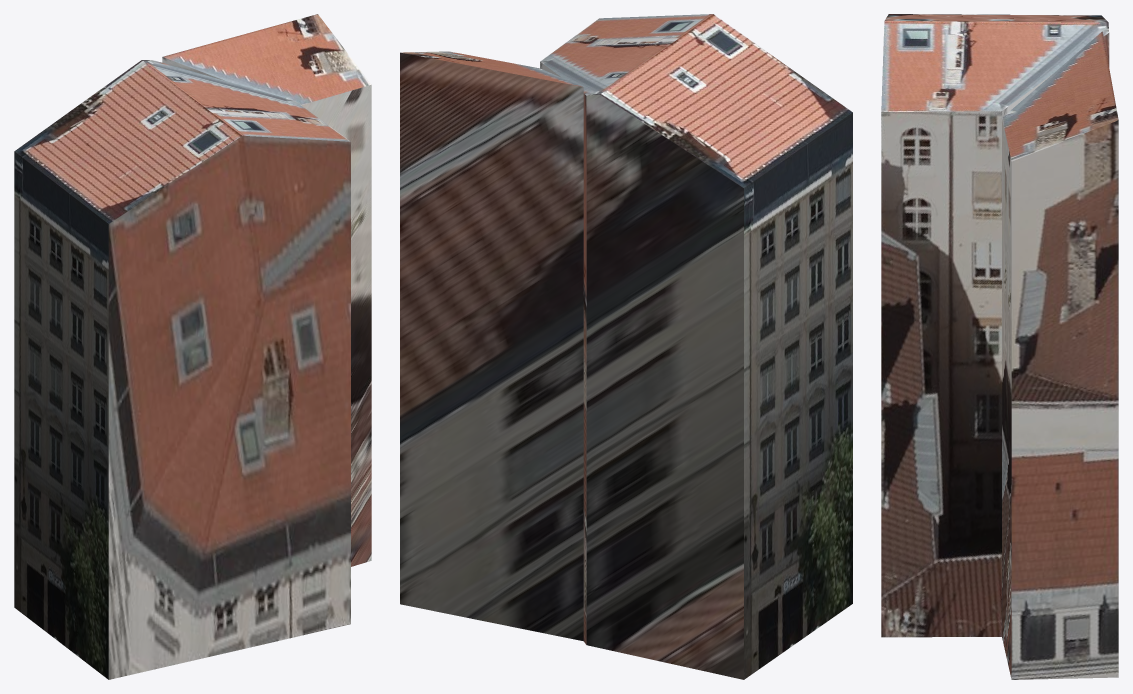
3 renders of one model, left to right at view 1: azimuth 30°, elevation 25°; view 2: azimuth 150°, elevation 25°; view 3: azimuth 270°, elevation 25°, orthographic. The views are drawn at different scales.
Visible parts, largest first — view 1: Z_UP; view 2: Z_UP; view 3: Z_UP.
Part boxes in pixels (x1=…): Z_UP: x1=14, y1=14, x2=371, y2=679; Z_UP: x1=400, y1=14, x2=852, y2=679; Z_UP: x1=881, y1=14, x2=1118, y2=679.
Size of the model in its own units: 17.08 by 26.29 by 10.11.
2 materials, 1 textured.
